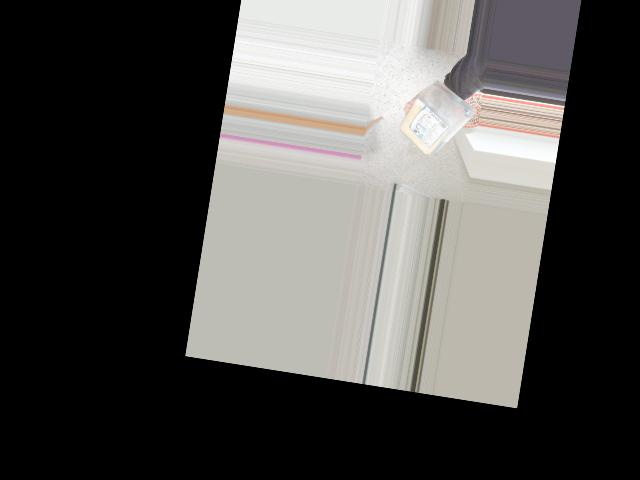cheese: (403, 87, 449, 158)
